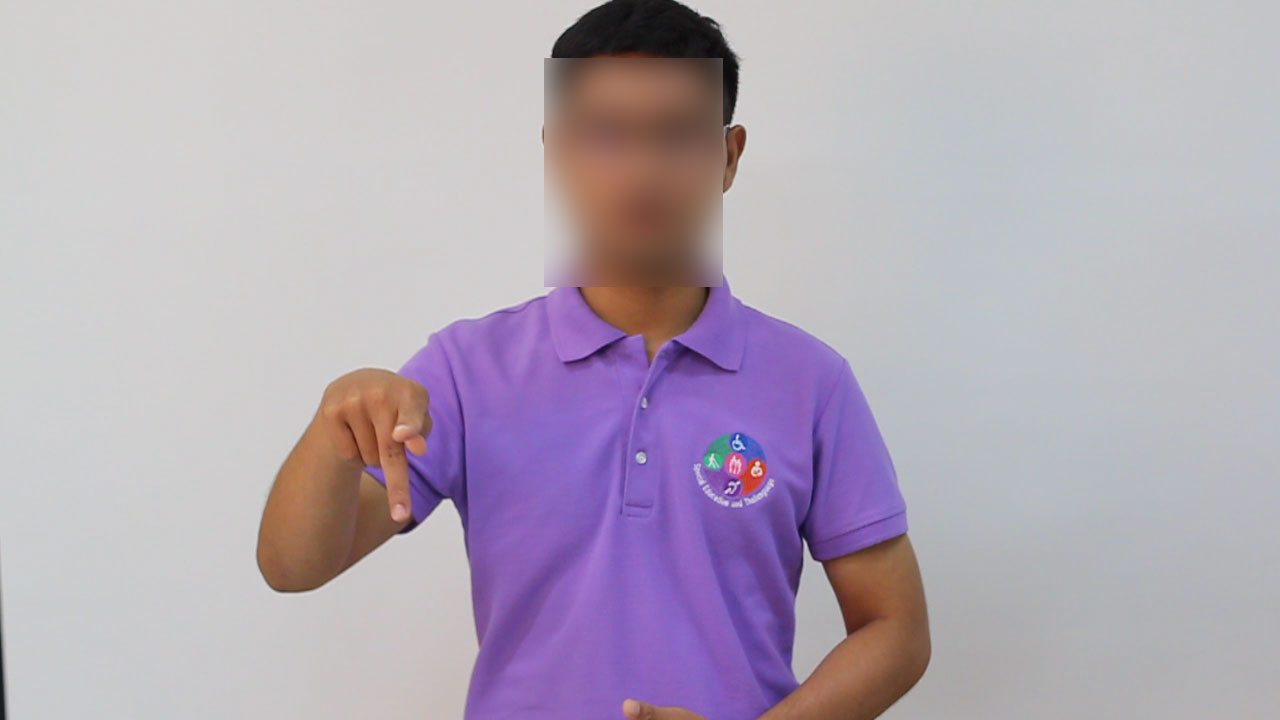por: (309, 358, 442, 532)
